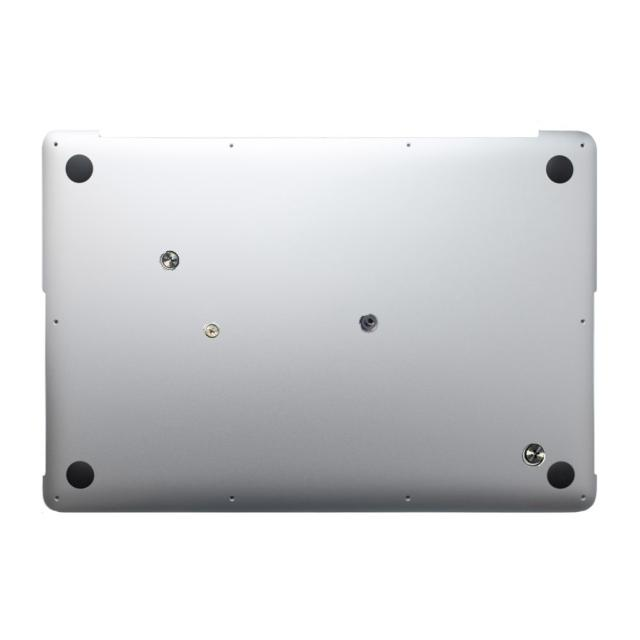lock: (521, 443, 545, 467), (159, 250, 179, 271), (203, 321, 220, 338)
missing_screw: (358, 313, 378, 332)
